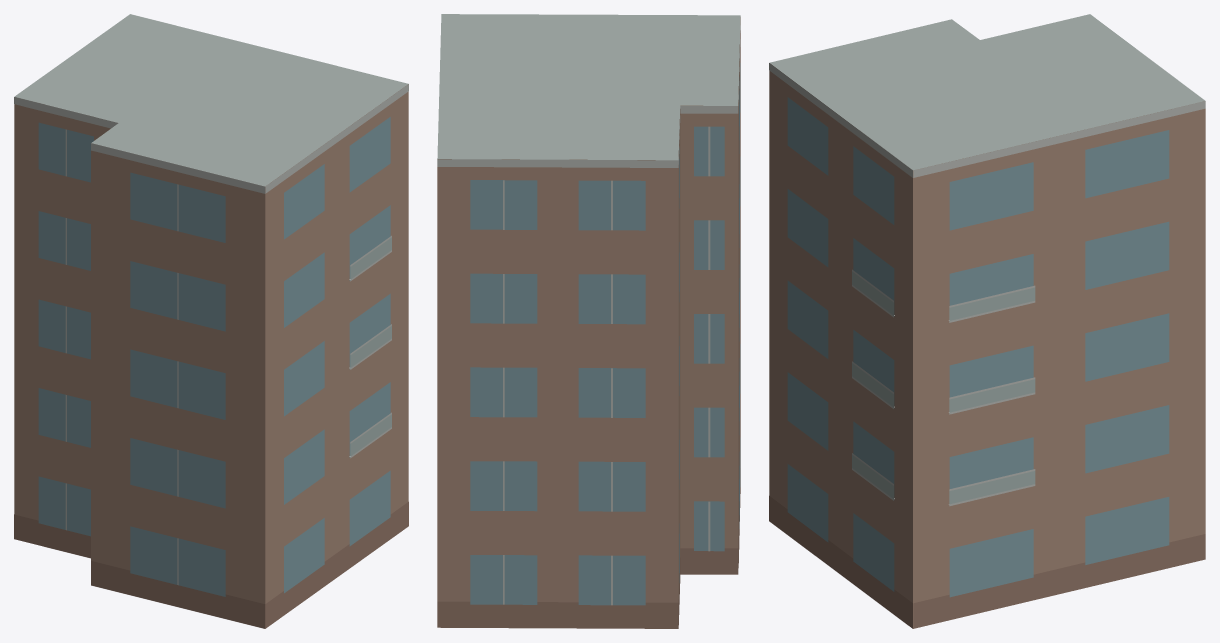
The model's file is survey-upis-32695319.glb.
The picture shows the model from 3 angles, left to right: view 1: azimuth 30°, elevation 25°; view 2: azimuth 150°, elevation 25°; view 3: azimuth 270°, elevation 25°; orthographic projection. The views are drawn at different scales.
Parts seen in each view (by area): view 1: survey-upis-32695319.tmp; view 2: survey-upis-32695319.tmp; view 3: survey-upis-32695319.tmp.
Boxes of the visible parts, left/top/right/bottom form: survey-upis-32695319.tmp: left=14, top=14, right=408, bottom=628; survey-upis-32695319.tmp: left=437, top=14, right=740, bottom=628; survey-upis-32695319.tmp: left=769, top=14, right=1205, bottom=628.
Size of the model in its own units: 10.69 by 14.6 by 12.61.
